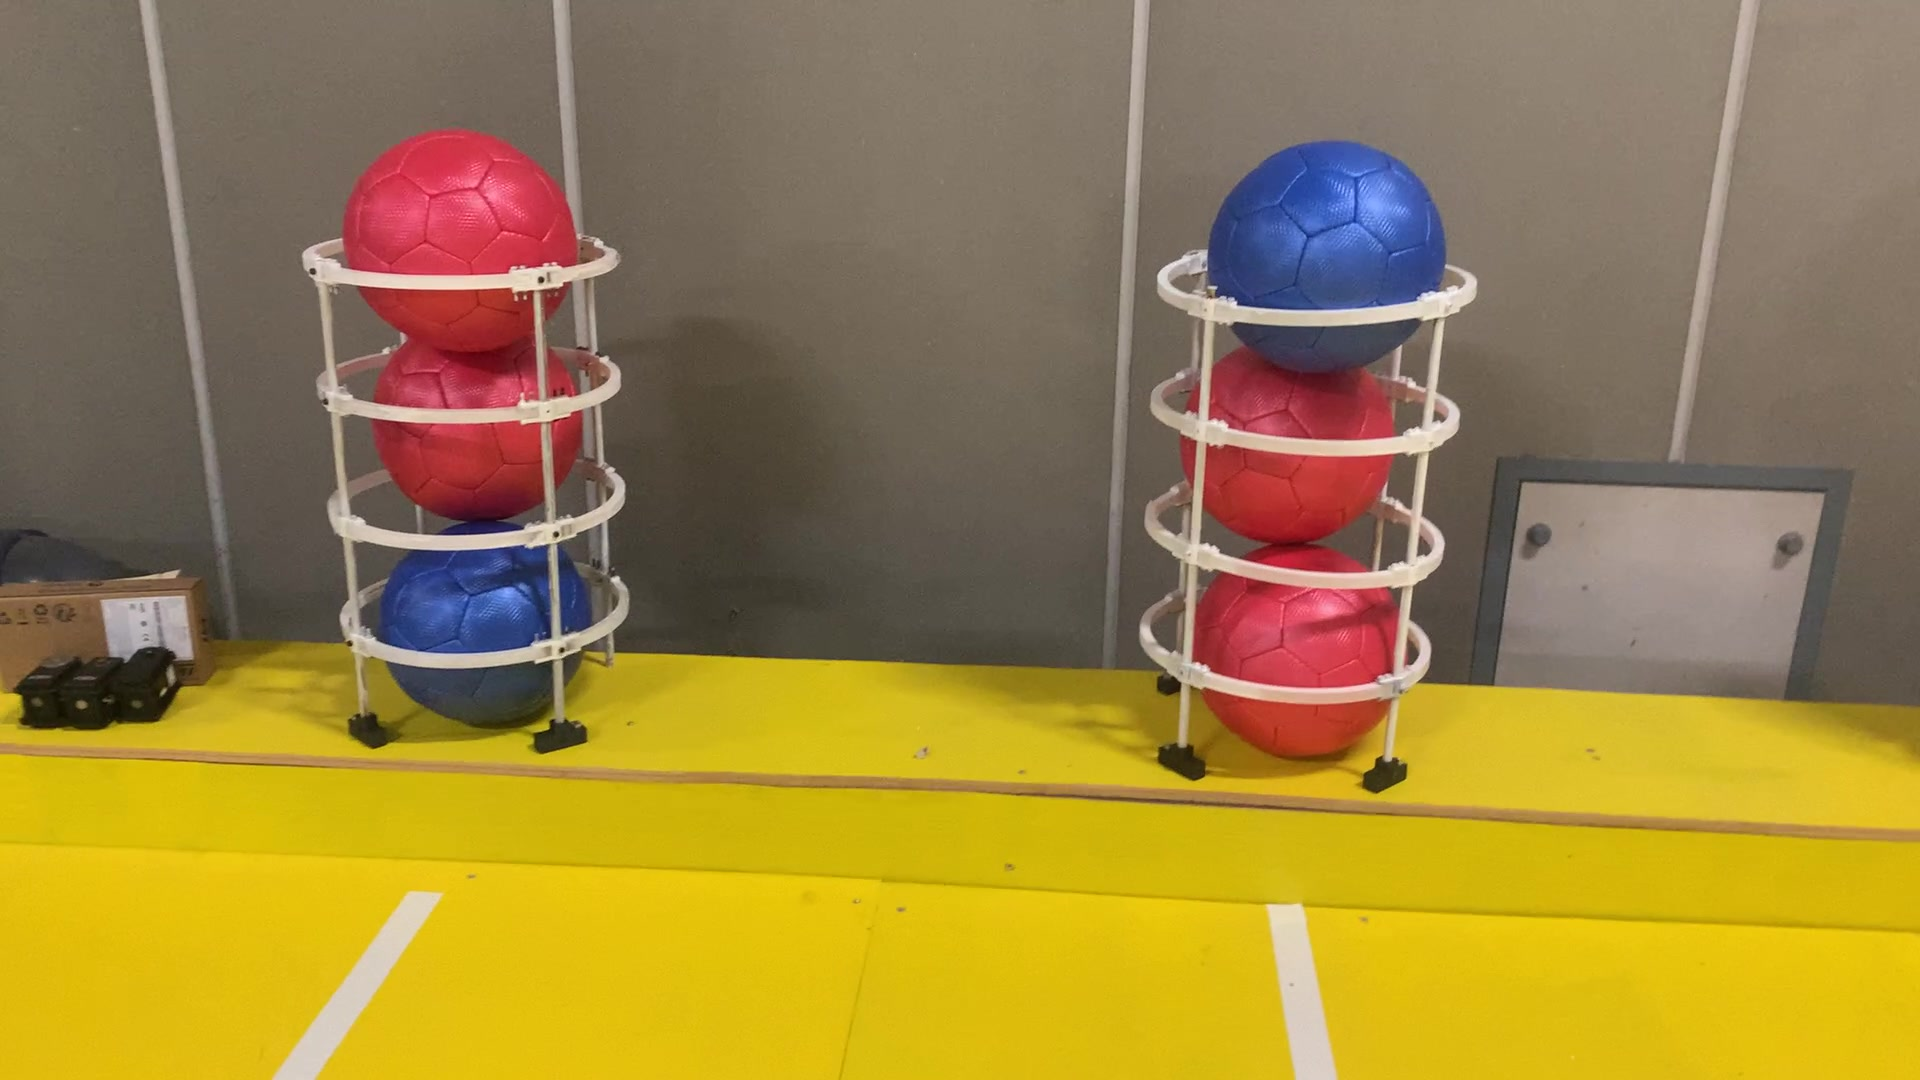blue: (1215, 128, 1452, 373), (382, 521, 596, 725)
red: (343, 128, 580, 352), (1192, 537, 1408, 765), (1185, 335, 1399, 543), (380, 326, 593, 517)
